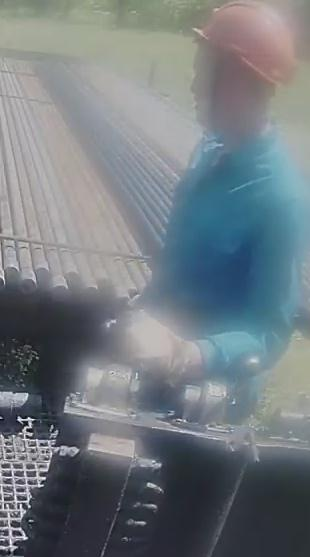gloves: (104, 306, 210, 385)
helmet: (191, 0, 299, 91)
vest: (166, 128, 296, 380)
